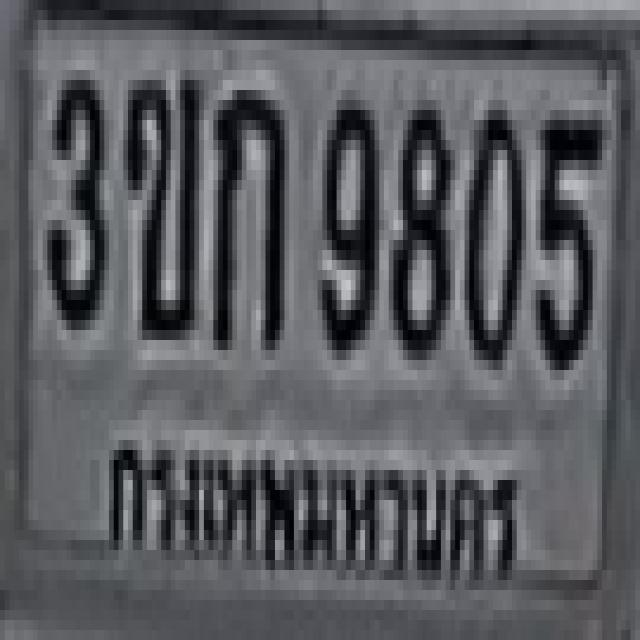0: (462, 100, 519, 360)
3: (43, 70, 104, 320)
5: (531, 110, 597, 360)
8: (388, 90, 446, 350)
9: (318, 90, 374, 350)
A01: (208, 80, 280, 340)
A02: (123, 70, 199, 330)
BKK: (100, 417, 532, 607)
